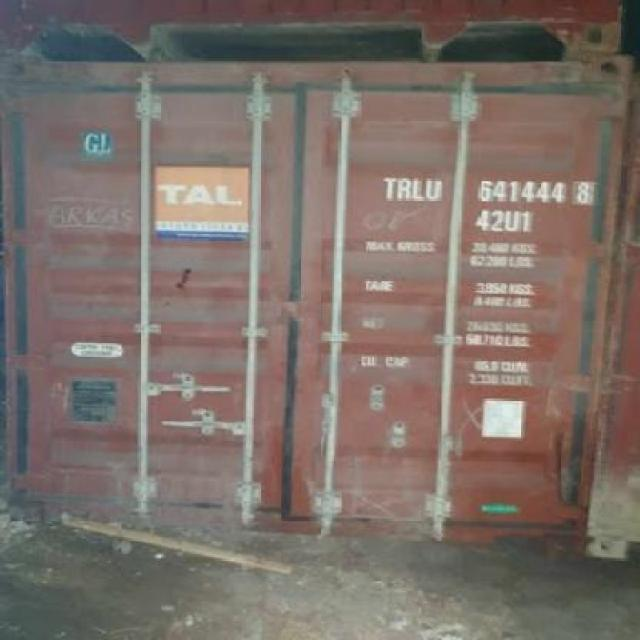ISO: (473, 210, 535, 234)
container_number: (388, 174, 594, 204)
